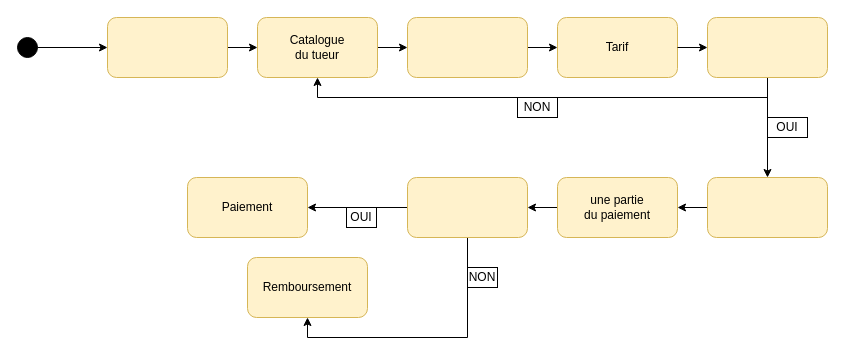
This 845x363 diagram has some shape labels left out. Here are the shapes that lost their labels. From the top down, the box of each, then its label:
(106, 16, 228, 78): Connexion
(406, 16, 528, 78): Profil du tueur
(706, 16, 828, 78): Validation
(406, 176, 528, 238): Confirmation
(706, 176, 828, 238): Partage d'infos
